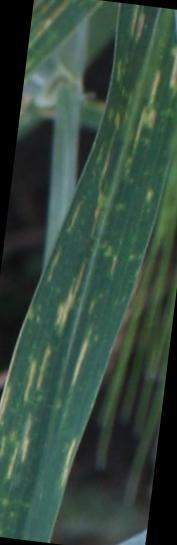Wheat: (16, 191, 152, 351), (109, 16, 177, 208), (7, 348, 75, 498)
